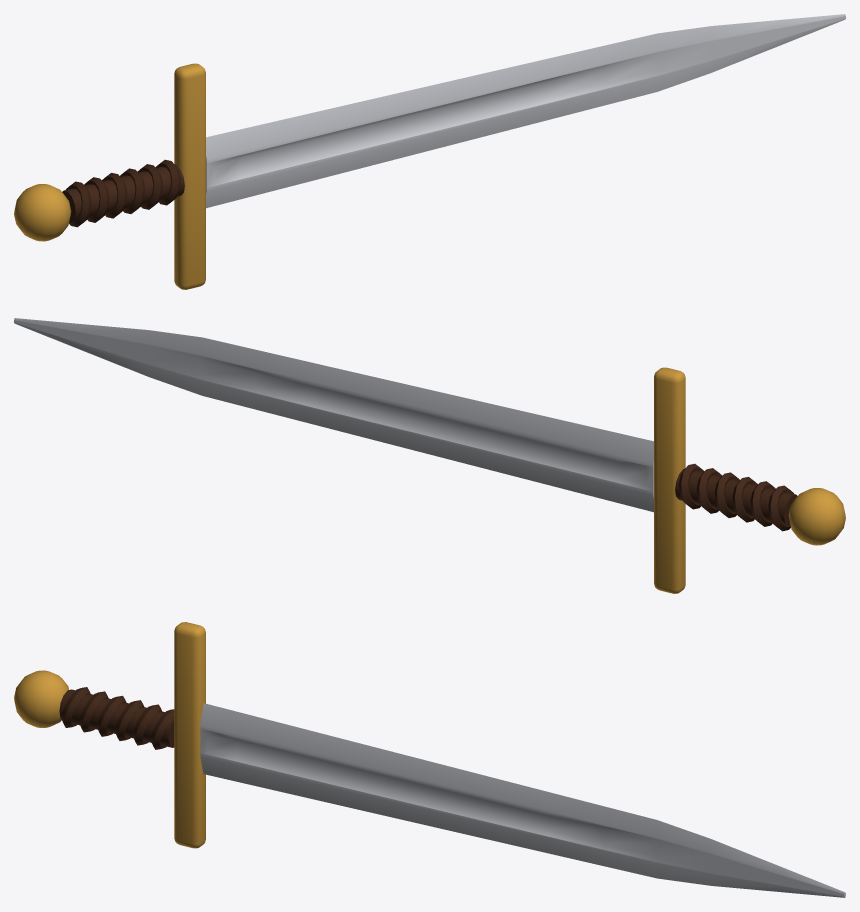
The model's file is sword.glb.
3 renders of one model, top to bottom at view 1: azimuth 30°, elevation 25°; view 2: azimuth 150°, elevation 25°; view 3: azimuth 330°, elevation 25°, orthographic.
Parts seen in each view (by area): view 1: Head, Guard, Handle, Pommel; view 2: Head, Guard, Handle, Pommel; view 3: Head, Guard, Handle, Pommel.
Part boxes in pixels (x1,y1,x2,y2): Head: (206,14,845,208); Guard: (174,63,205,289); Handle: (62,159,184,227); Pommel: (14,184,71,241); Head: (14,318,653,512); Guard: (654,367,685,593); Handle: (675,463,797,531); Pommel: (788,488,845,545); Head: (200,703,845,897); Guard: (174,622,205,848); Handle: (59,687,174,749); Pommel: (14,670,68,727).
Size of the model in its own units: 0.926 by 0.235 by 0.056.
